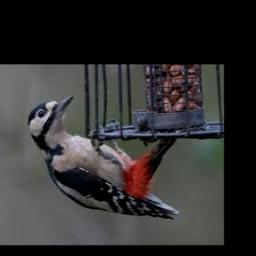Woodpecker: (27, 95, 179, 219)
